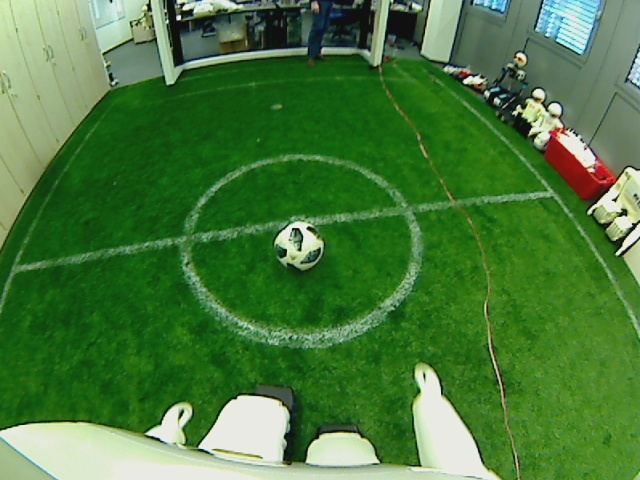ball: (272, 220, 324, 272)
